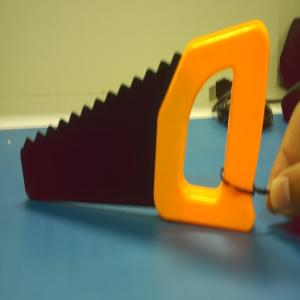serrote: (20, 16, 269, 235)
